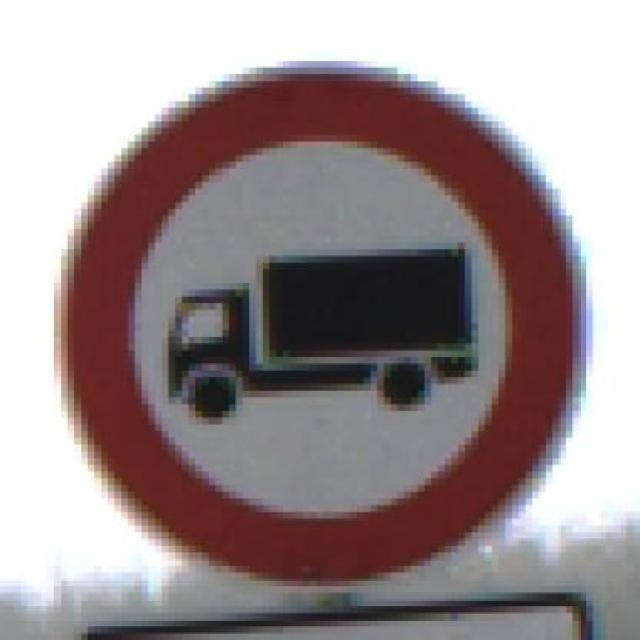Truck traffic is prohibited: (51, 27, 592, 593)
